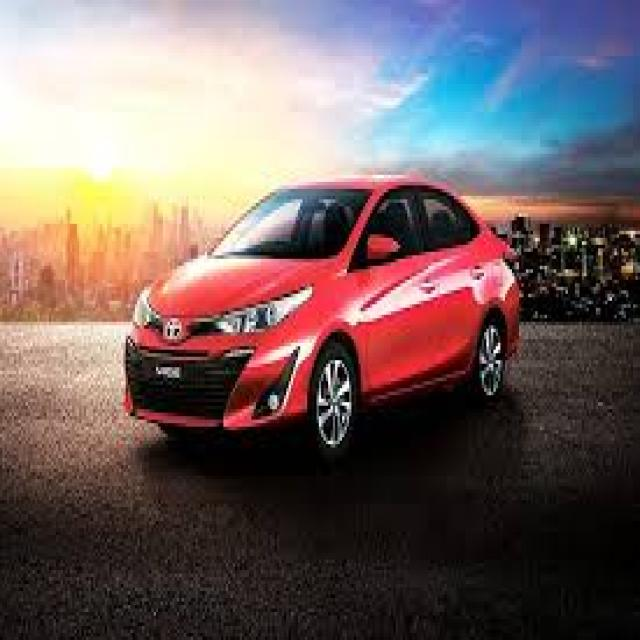ToyotaVios: (121, 171, 521, 462)
